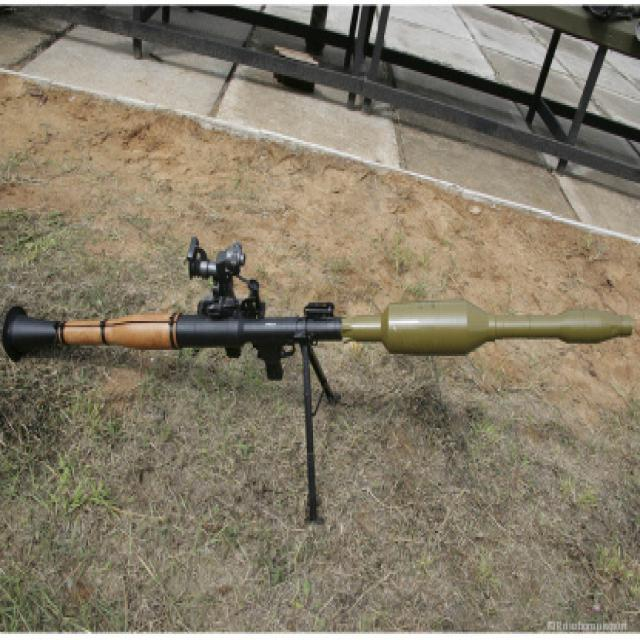bazooka: (3, 229, 640, 538)
